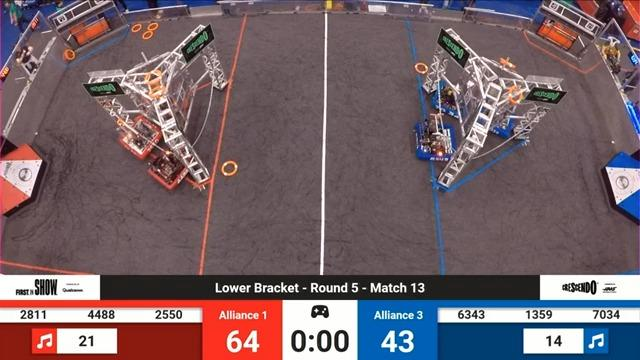robot: (113, 109, 163, 159), (149, 146, 199, 192), (411, 113, 457, 162), (435, 76, 467, 118), (492, 98, 519, 138)
